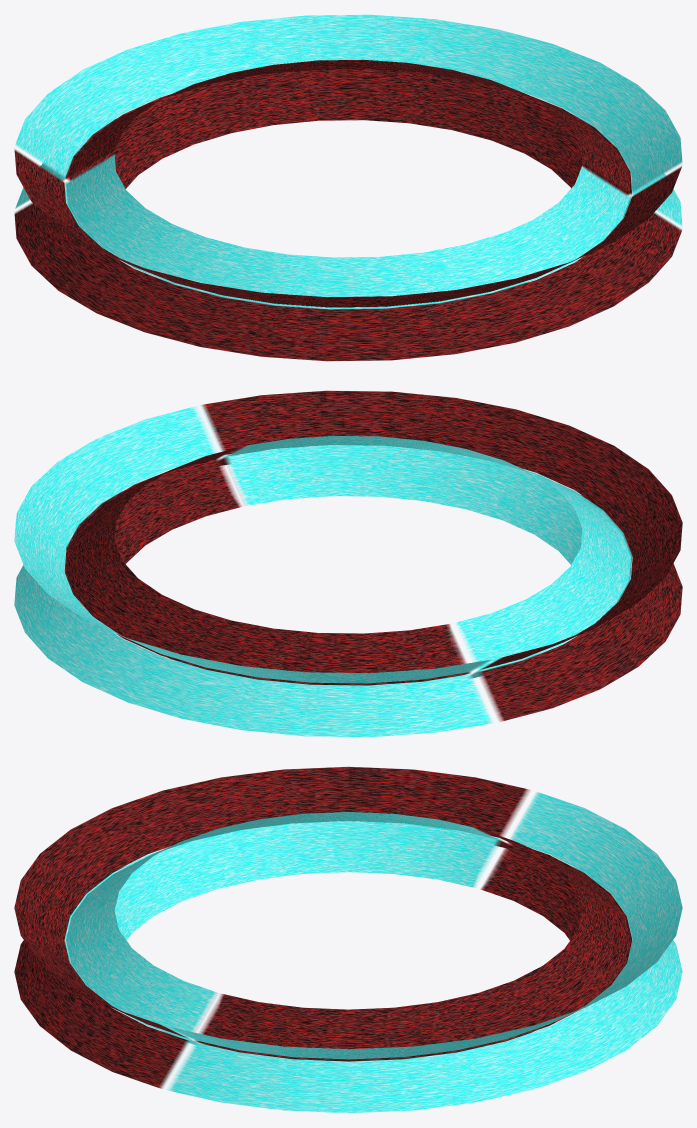
The picture shows the model from 3 angles, top to bottom: view 1: azimuth 30°, elevation 25°; view 2: azimuth 150°, elevation 25°; view 3: azimuth 270°, elevation 25°; orthographic projection.
Parts seen in each view (by area): view 1: SM_VFX_Ring_Energy_LOD0; view 2: SM_VFX_Ring_Energy_LOD0; view 3: SM_VFX_Ring_Energy_LOD0.
Boxes of the visible parts, x1,y1,x2,y2 form: SM_VFX_Ring_Energy_LOD0: (14,14,682,361); SM_VFX_Ring_Energy_LOD0: (14,390,682,737); SM_VFX_Ring_Energy_LOD0: (14,766,682,1113).
Size of the model in its own units: 2 by 0.2123 by 2.
1 material, 1 textured.
